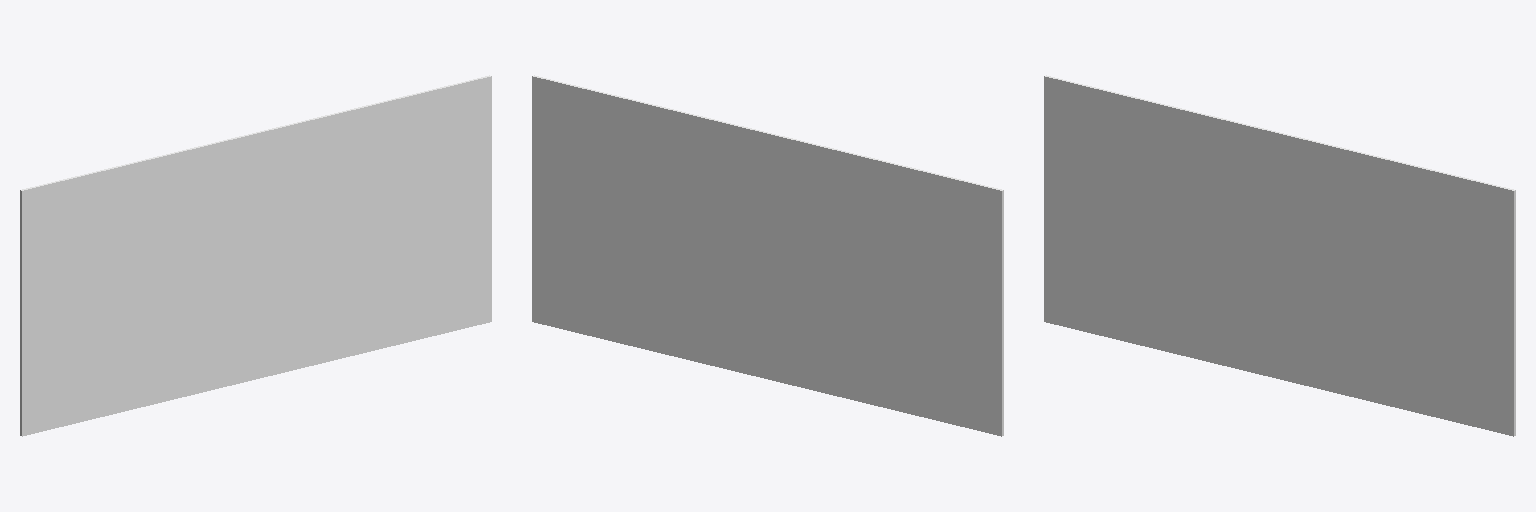
robot.urdf — wall:
<?xml version="1.0" ?>
<robot name="wall">
  <link concave="no" name="baseLink">
    <inertial>
      <origin rpy="0 0 0" xyz="0 0 0"/>
       <mass value="100.0"/>
       <inertia ixx="0" ixy="0" ixz="0" iyy="0" iyz="0" izz="0"/>
    </inertial>
    <visual>
        <origin rpy="0 0 0" xyz="0 0 0"/>
        <geometry>
            <box size="10 0.05 5"/>
        </geometry>
        <material name="white">
            <color rgba="1 1 1 1"/>
        </material>
    </visual>
    <collision concave="no">
        <origin rpy="0 0 0" xyz="0 0 2.5"/>
        <geometry>
            <box size="10 0.05 5"/>
        </geometry>
    </collision>
  </link>
</robot>

--- Render facts (derived) ---
3 views of the same robot in one strip: view 1: azimuth 30°, elevation 25°; view 2: azimuth 150°, elevation 25°; view 3: azimuth 330°, elevation 25° (orthographic).
Model wall with 1 links and 0 joints (none), rooted at baseLink, posed all joints at 0.
Visible links, largest first — view 1: baseLink; view 2: baseLink; view 3: baseLink.
Link boxes in pixels (x1,y1,x2,y2): baseLink: [20, 75, 491, 436]; baseLink: [532, 75, 1003, 436]; baseLink: [1044, 75, 1515, 436].
Size in the robot's own frame: 10 by 0.05 by 5 metres.
Geometry: primitives only (box / cylinder / sphere), no mesh files.